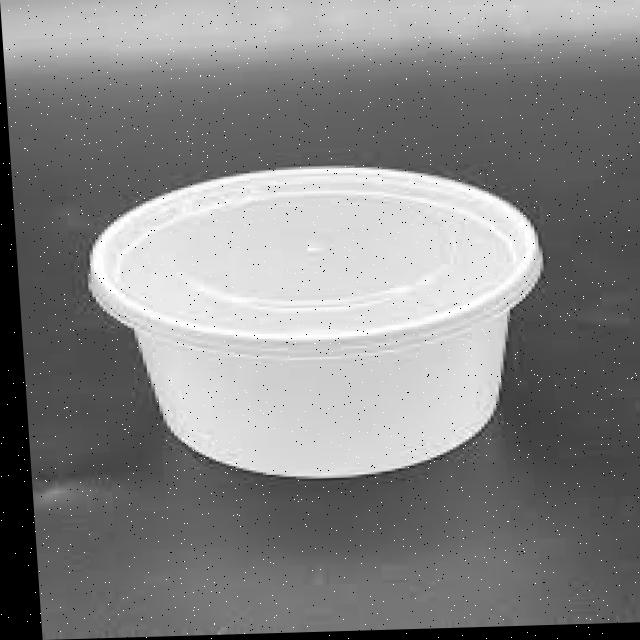disposable: (96, 158, 579, 500)
